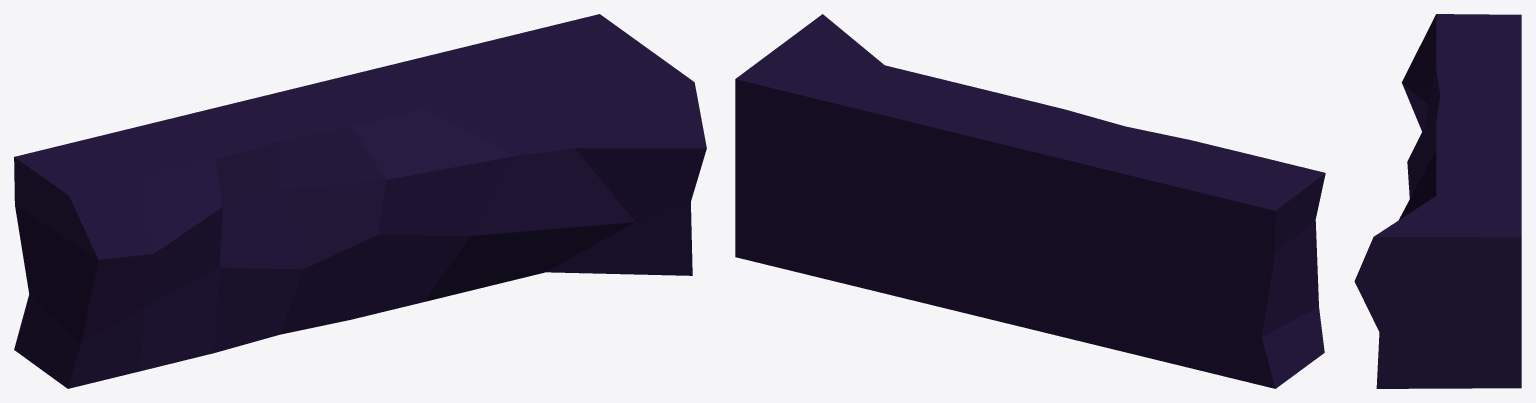
Rendered from cave_cliff_middle_001_msh.fbx.
The picture shows the model from 3 angles, left to right: view 1: azimuth 30°, elevation 25°; view 2: azimuth 150°, elevation 25°; view 3: azimuth 270°, elevation 25°; orthographic projection. The views are drawn at different scales.
Visible parts, largest first — view 1: cave_cliff_middle_001_msh; view 2: cave_cliff_middle_001_msh; view 3: cave_cliff_middle_001_msh.
Boxes of the visible parts, left/top/right/bottom form: cave_cliff_middle_001_msh: left=14, top=14, right=706, bottom=388; cave_cliff_middle_001_msh: left=735, top=14, right=1325, bottom=388; cave_cliff_middle_001_msh: left=1354, top=14, right=1521, bottom=388.
Bounding box in the file's own units: 632 × 201 × 200.
